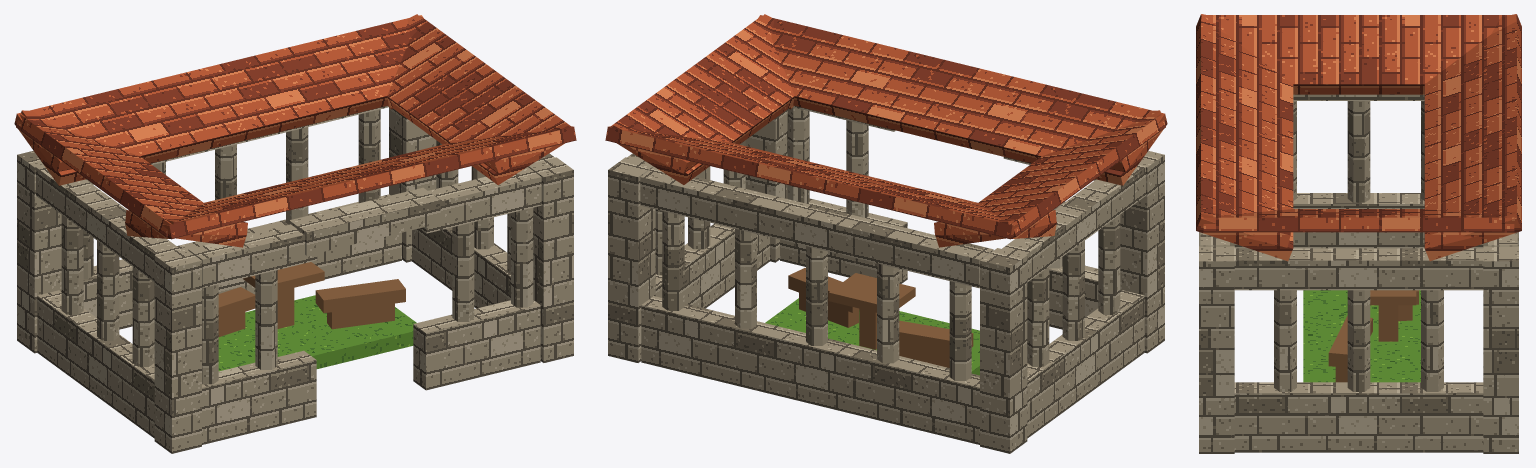
File: abbey_cloister_t1.glb
The picture shows the model from 3 angles, left to right: view 1: azimuth 30°, elevation 25°; view 2: azimuth 150°, elevation 25°; view 3: azimuth 270°, elevation 25°; orthographic projection. The views are drawn at different scales.
Visible parts, largest first — view 1: roof_y0, roof_x0, roof_y1, corner_pier_3, wall_front_0, wall_side_1, roof_x1, wall_front_1, corner_pier_1, garth_grass, corner_pier_2, gate_arch (+25 smaller); view 2: roof_y1, wall_back, header_back, roof_x0, roof_y0, corner_pier_2, wall_side_1, corner_pier_0, roof_x1, corner_pier_3, header_side_1, wall_side_0 (+23 smaller); view 3: roof_y0, roof_y1, wall_side_0, roof_x1, header_side_0, corner_pier_0, corner_pier_1, roof_x0, garth_grass, wall_side_1, col_side_0_1, col_side_1_1 (+10 smaller).
Part boxes in pixels (x1=…): roof_y0: x1=14, y1=15, x2=423, y2=185; roof_x0: x1=387, y1=16, x2=570, y2=184; roof_y1: x1=125, y1=126, x2=576, y2=239; corner_pier_3: x1=154, y1=248, x2=201, y2=453; wall_front_0: x1=413, y1=300, x2=540, y2=390; wall_side_1: x1=37, y1=290, x2=154, y2=438; roof_x1: x1=16, y1=114, x2=246, y2=247; wall_front_1: x1=202, y1=350, x2=316, y2=444; corner_pier_1: x1=528, y1=157, x2=573, y2=362; garth_grass: x1=218, y1=283, x2=416, y2=371; corner_pier_2: x1=17, y1=151, x2=61, y2=353; gate_arch: x1=289, y1=187, x2=440, y2=255; roof_y1: x1=758, y1=15, x2=1167, y2=185; wall_back: x1=641, y1=296, x2=979, y2=444; header_back: x1=640, y1=167, x2=993, y2=288; roof_x0: x1=611, y1=16, x2=794, y2=184; roof_y0: x1=605, y1=126, x2=1056, y2=239; corner_pier_2: x1=980, y1=248, x2=1027, y2=453; wall_side_1: x1=1027, y1=290, x2=1144, y2=438; corner_pier_0: x1=608, y1=157, x2=655, y2=362; roof_x1: x1=935, y1=114, x2=1165, y2=247; corner_pier_3: x1=1120, y1=151, x2=1164, y2=353; header_side_1: x1=1002, y1=164, x2=1146, y2=282; wall_side_0: x1=655, y1=223, x2=769, y2=308; roof_y0: x1=1424, y1=14, x2=1521, y2=261; roof_y1: x1=1196, y1=14, x2=1293, y2=261; wall_side_0: x1=1234, y1=382, x2=1483, y2=452; roof_x1: x1=1208, y1=15, x2=1509, y2=94; header_side_0: x1=1233, y1=248, x2=1484, y2=290; corner_pier_0: x1=1483, y1=246, x2=1518, y2=453; corner_pier_1: x1=1199, y1=246, x2=1234, y2=453; roof_x0: x1=1203, y1=209, x2=1514, y2=232; garth_grass: x1=1303, y1=290, x2=1420, y2=382; wall_side_1: x1=1234, y1=193, x2=1483, y2=248; col_side_0_1: x1=1347, y1=290, x2=1370, y2=391; col_side_1_1: x1=1347, y1=101, x2=1370, y2=202.
Size of what is drawn, in the model's own units: 2.99 by 1.61 by 1.99.
Materials: 4 (3 with a texture image).
